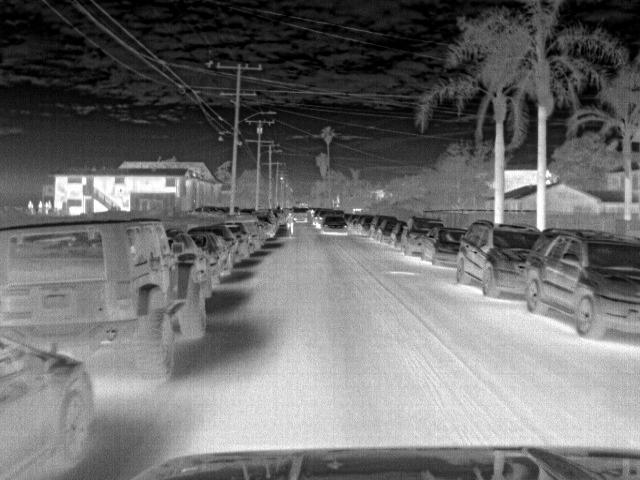car: (1, 220, 207, 386), (521, 231, 640, 342), (1, 334, 94, 475), (456, 220, 540, 303), (165, 228, 222, 295), (400, 218, 444, 264), (189, 232, 231, 278), (423, 228, 468, 269), (223, 212, 259, 248), (223, 223, 250, 258), (377, 218, 401, 246), (320, 215, 350, 236), (317, 208, 341, 231), (193, 204, 229, 218), (257, 216, 277, 240), (390, 222, 406, 250), (369, 216, 389, 237), (290, 206, 310, 223), (359, 214, 375, 234)
person: (287, 211, 299, 235), (26, 198, 35, 216), (36, 198, 45, 214)
